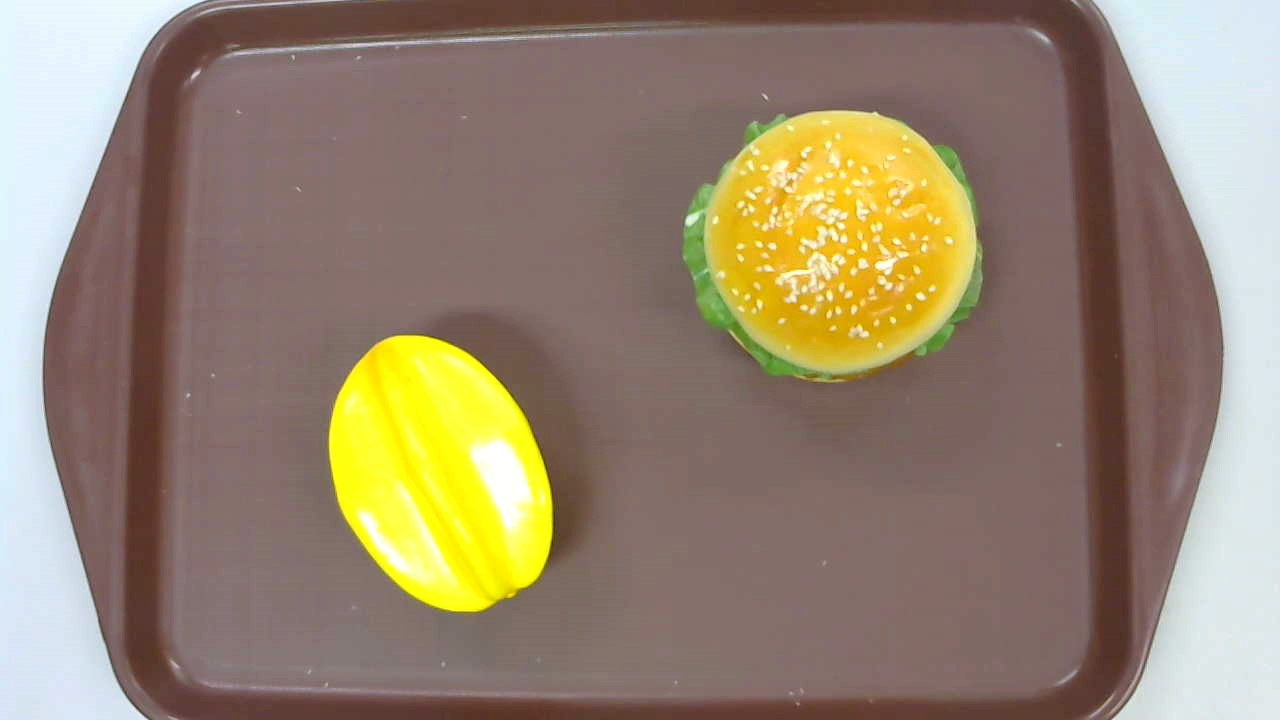hamburger: (682, 110, 984, 386)
star fruit: (327, 334, 554, 614)
